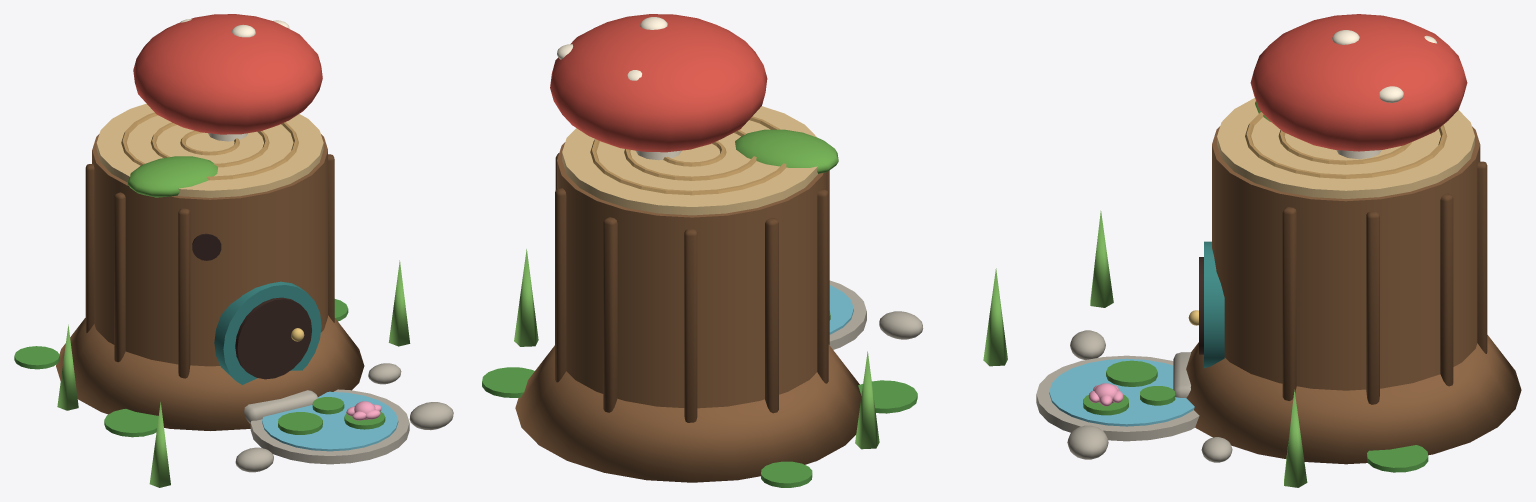
Rendered from frog-house.glb.
3 renders of one model, left to right at view 1: azimuth 30°, elevation 25°; view 2: azimuth 150°, elevation 25°; view 3: azimuth 270°, elevation 25°, orthographic. The views are drawn at different scales.
Visible parts, largest first — view 1: FROG HOUSE · stump, FROG HOUSE · toadstool cap, FROG HOUSE · stump flare, FROG HOUSE · cut top, FROG HOUSE · door, FROG HOUSE · pool, FROG HOUSE · door frame, FROG HOUSE · pool rim, FROG HOUSE · moss, FROG HOUSE · bark furrow 6, FROG HOUSE · bark furrow 5, FROG HOUSE · bark furrow 4 (+15 smaller); view 2: FROG HOUSE · stump, FROG HOUSE · stump flare, FROG HOUSE · toadstool cap, FROG HOUSE · cut top, FROG HOUSE · moss, FROG HOUSE · bark furrow 2, FROG HOUSE · bark furrow 3, FROG HOUSE · bark furrow 4, FROG HOUSE · bark furrow 5, FROG HOUSE · bark furrow 1, FROG HOUSE · growth ring 2, FROG HOUSE · reed 0 (+9 smaller); view 3: FROG HOUSE · stump, FROG HOUSE · stump flare, FROG HOUSE · toadstool cap, FROG HOUSE · cut top, FROG HOUSE · pool, FROG HOUSE · pool rim, FROG HOUSE · bark furrow 9, FROG HOUSE · bark furrow 0, FROG HOUSE · bark furrow 1, FROG HOUSE · door frame, FROG HOUSE · bark furrow 2, FROG HOUSE · growth ring 2 (+11 smaller).
Part boxes in pixels (box(x1,y1,x2,y2)): FROG HOUSE · stump: box(92, 134, 327, 366); FROG HOUSE · toadstool cap: box(133, 14, 322, 134); FROG HOUSE · stump flare: box(56, 315, 364, 430); FROG HOUSE · cut top: box(96, 103, 323, 197); FROG HOUSE · door: box(235, 297, 311, 379); FROG HOUSE · pool: box(262, 391, 398, 451); FROG HOUSE · door frame: box(214, 281, 321, 384); FROG HOUSE · pool rim: box(250, 389, 409, 464); FROG HOUSE · moss: box(127, 156, 217, 197); FROG HOUSE · bark furrow 6: box(178, 208, 190, 378); FROG HOUSE · bark furrow 5: box(114, 192, 125, 362); FROG HOUSE · bark furrow 4: box(85, 164, 94, 333); FROG HOUSE · stump: box(557, 142, 827, 408); FROG HOUSE · stump flare: box(515, 344, 861, 482); FROG HOUSE · toadstool cap: box(550, 14, 767, 152); FROG HOUSE · cut top: box(562, 106, 817, 215); FROG HOUSE · moss: box(735, 129, 838, 173); FROG HOUSE · bark furrow 2: box(603, 217, 617, 412); FROG HOUSE · bark furrow 3: box(684, 229, 697, 422); FROG HOUSE · bark furrow 4: box(765, 217, 778, 413); FROG HOUSE · bark furrow 5: box(817, 189, 828, 383); FROG HOUSE · bark furrow 1: box(555, 188, 566, 382); FROG HOUSE · growth ring 2: box(590, 116, 786, 195); FROG HOUSE · reed 0: box(983, 268, 1007, 366); FROG HOUSE · stump: box(1212, 126, 1480, 390); FROG HOUSE · stump flare: box(1186, 335, 1521, 464); FROG HOUSE · toadstool cap: box(1250, 14, 1467, 151); FROG HOUSE · cut top: box(1217, 98, 1474, 198); FROG HOUSE · pool: box(1049, 358, 1194, 426); FROG HOUSE · pool rim: box(1036, 355, 1199, 441); FROG HOUSE · bark furrow 9: box(1282, 207, 1296, 400); FROG HOUSE · bark furrow 0: box(1366, 211, 1379, 404); FROG HOUSE · bark furrow 1: box(1440, 193, 1453, 386); FROG HOUSE · door frame: box(1204, 241, 1224, 368); FROG HOUSE · bark furrow 2: box(1477, 161, 1487, 353); FROG HOUSE · growth ring 2: box(1245, 112, 1447, 178).
Bounding box in the file's own units: 1.75 × 1.63 × 1.88.
